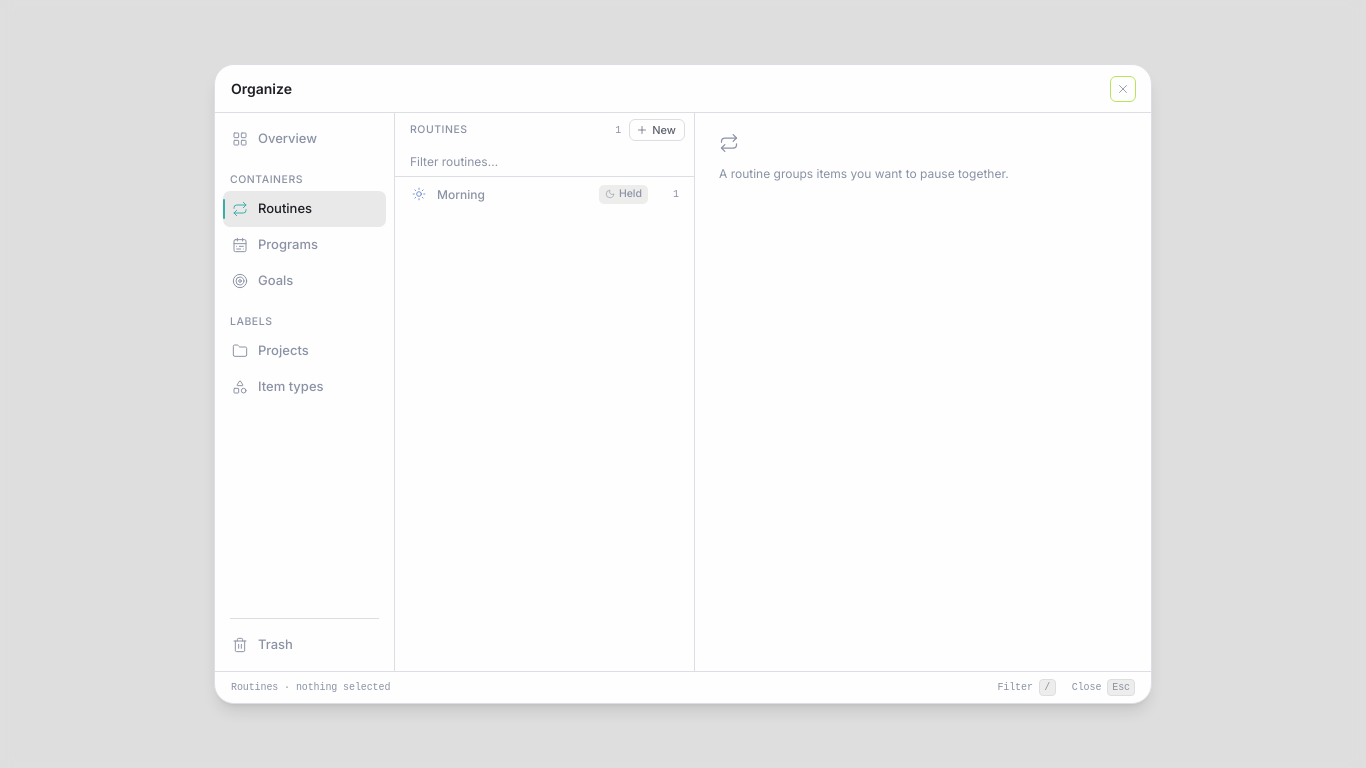
Test case: a routine a program is holding off › promises no date when the blocking program has none to give
This screenshot has width=1366, height=768.
What coordinates should you click on to do the following:
click the button with test id "routine-row"
I would click on:
 (461, 194)
Its box is [403,177,686,211].
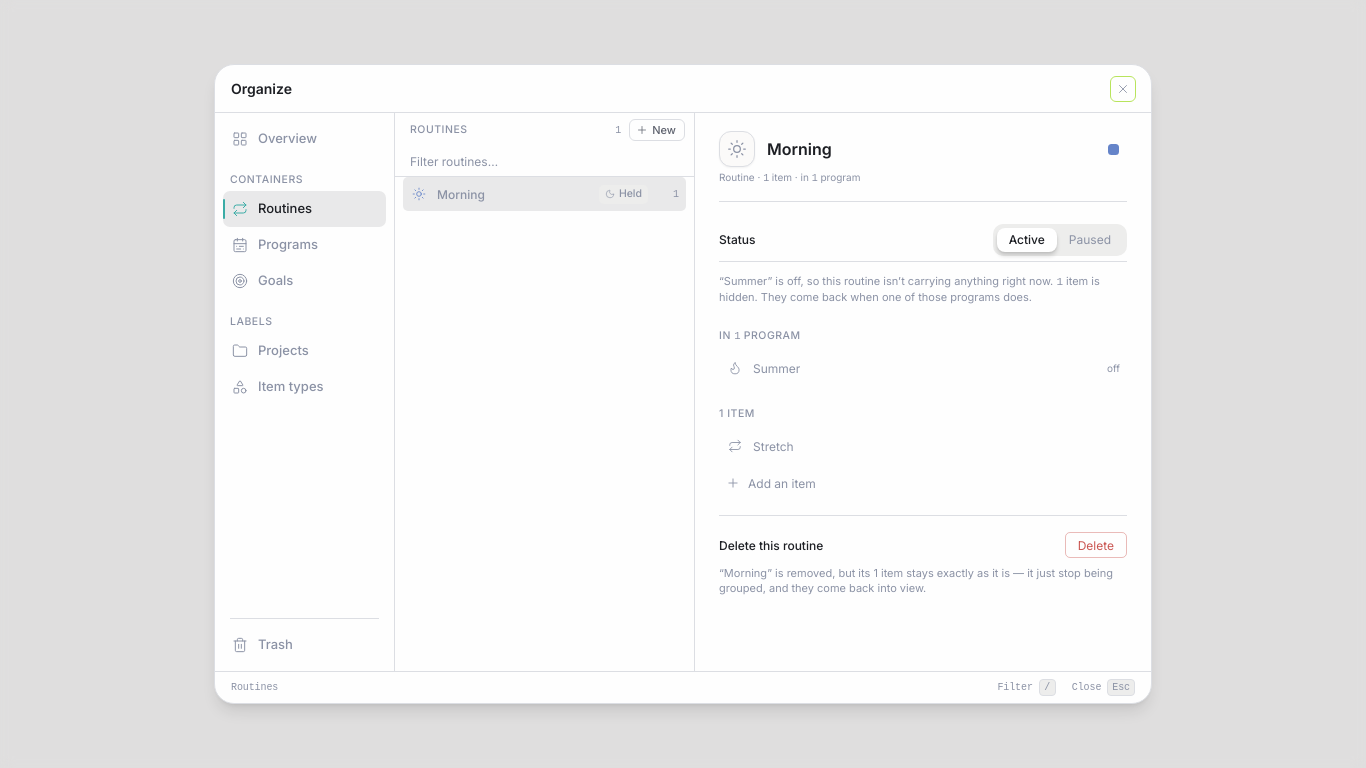
Expected: the element with test id "routine-held-note" shows "when one of those programs does", [761,290,1032,304]
